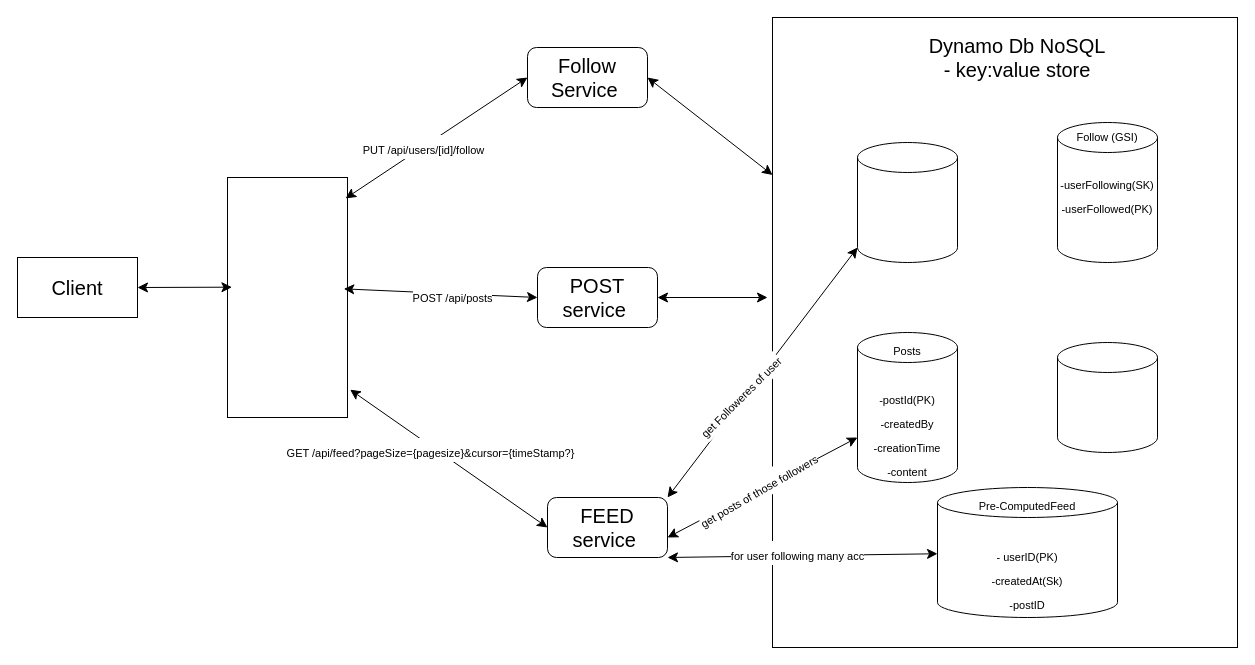
The diagram is 1255 pixels wide and 665 high, and some of its shapes have lost their labels. Each missing label, with the centre of its shape:
"API Gateway and Load Balancer" belongs at (287,297).
"Follow -userFollowing(PK) -userFollowed(SK) -createdA" belongs at (907,202).
"Posts GSI -createdBy(PK) -createdAT(SK) -" belongs at (1107,397).
